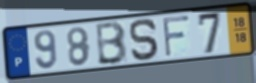7: (196, 12, 224, 56)
8: (65, 25, 90, 67)
9: (33, 29, 58, 71)
B: (95, 20, 129, 67)
F: (161, 13, 192, 60)
S: (128, 17, 162, 62)
